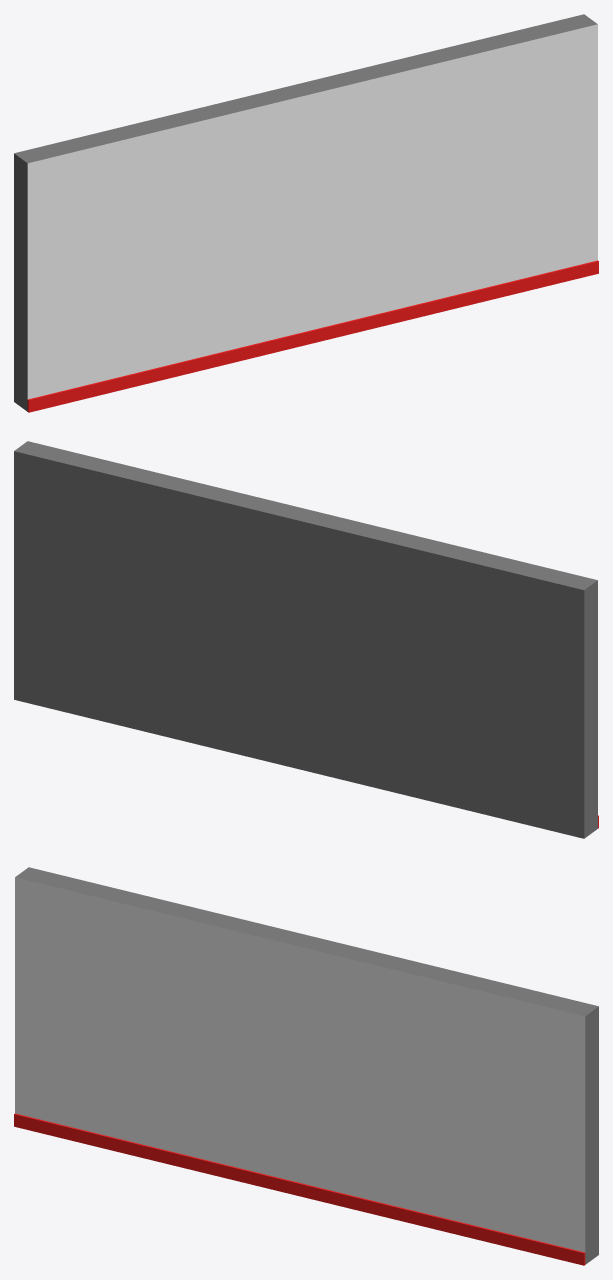
Rendered from Mur01.fbx.
3 renders of one model, top to bottom at view 1: azimuth 30°, elevation 25°; view 2: azimuth 150°, elevation 25°; view 3: azimuth 330°, elevation 25°, orthographic.
Visible parts, largest first — view 1: Mur01; view 2: Mur01; view 3: Mur01.
Boxes of the visible parts, x1,y1,x2,y2 form: Mur01: (14,14,598,412); Mur01: (14,441,598,838); Mur01: (14,867,598,1265).
Size of the model in its own units: 600 by 26.99 by 250.
